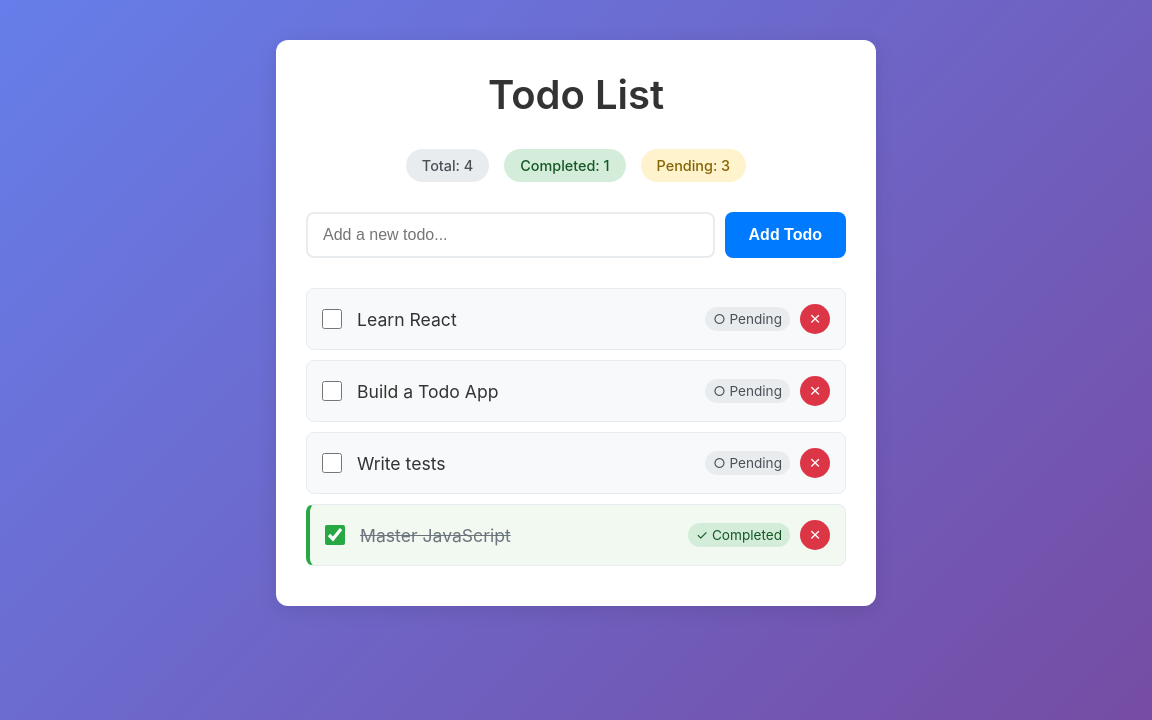
Scenario: TodoList Component › toggles todo completion status when checkbox is clicked
This screenshot has width=1152, height=720.
Note: Click checkbox
Click the checkbox named "Toggle Learn React". click: (332, 319)
box: [322,309,342,329]
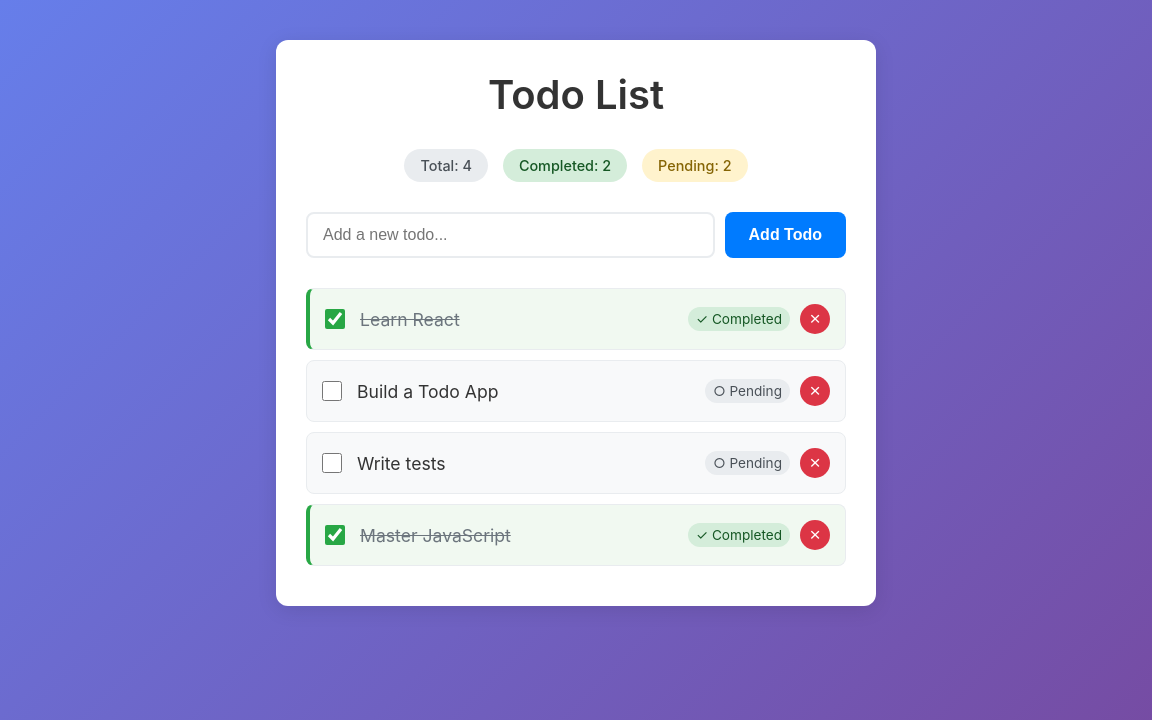
Check: the checkbox named "Toggle Learn React" is checked, box [325,309,345,329]
Check: the text "Completed: 2" is shown, box [503,149,627,182]
